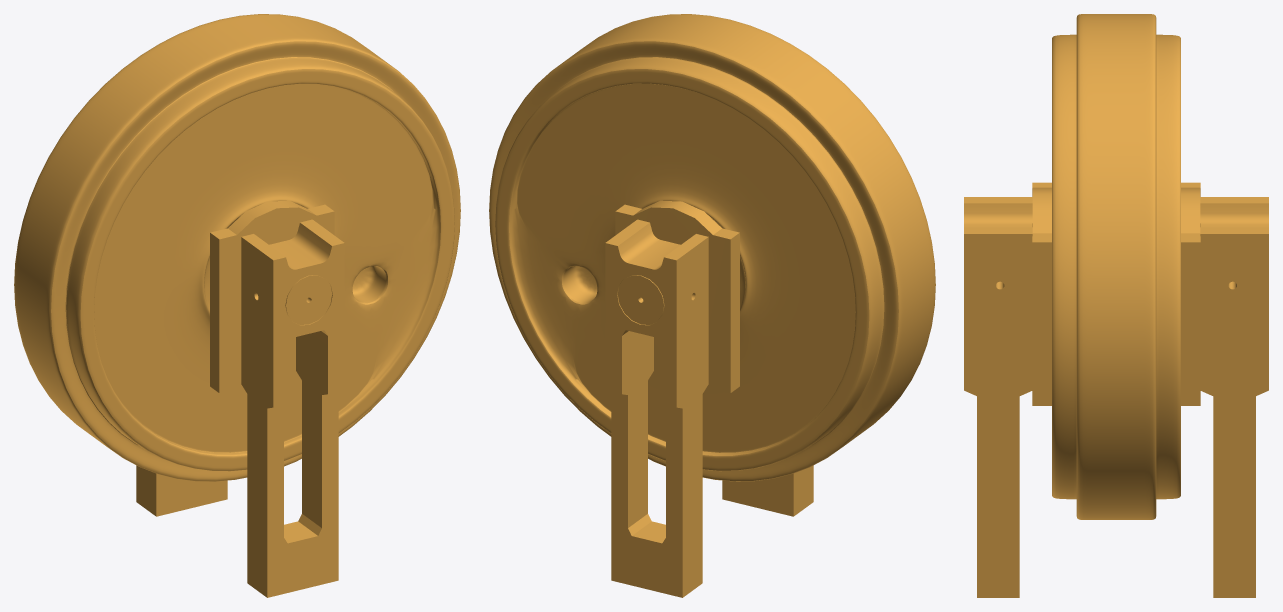
The model's file is Excavator Front Idler.fbx.
The picture shows the model from 3 angles, left to right: view 1: azimuth 30°, elevation 25°; view 2: azimuth 150°, elevation 25°; view 3: azimuth 270°, elevation 25°; orthographic projection. The views are drawn at different scales.
Visible parts, largest first — view 1: Cylinder, Cylinder.002; view 2: Cylinder, Cylinder.002; view 3: Cylinder, Cylinder.002.
Boxes of the visible parts, box(x1,y1,x2,y2) form: Cylinder: box(14, 14, 460, 481); Cylinder.002: box(136, 200, 344, 597); Cylinder: box(489, 14, 935, 481); Cylinder.002: box(605, 200, 813, 597); Cylinder: box(1052, 14, 1180, 519); Cylinder.002: box(964, 182, 1268, 597).
Size of the model in its own units: 716 by 846 by 431.
